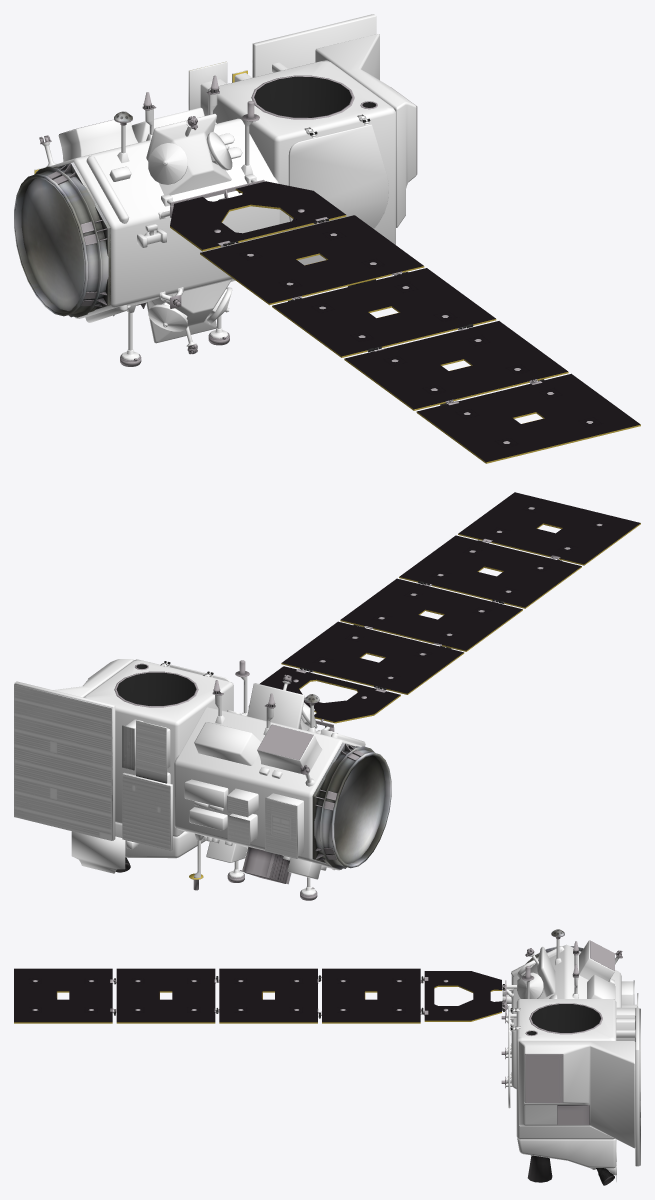
File: icesat2.glb
3 views of the same model, one above another, from view 1: azimuth 30°, elevation 25°; view 2: azimuth 150°, elevation 25°; view 3: azimuth 270°, elevation 25° (orthographic). The views are drawn at different scales.
Visible parts, largest first — view 1: BUS; view 2: BUS; view 3: BUS.
Boxes of the visible parts, x1,y1,x2,y2 form: BUS: [14, 14, 640, 463]; BUS: [14, 492, 640, 900]; BUS: [14, 929, 640, 1185].
Bounding box in the file's own units: 3.63 × 2.31 × 7.34.
8 materials, 1 textured.
